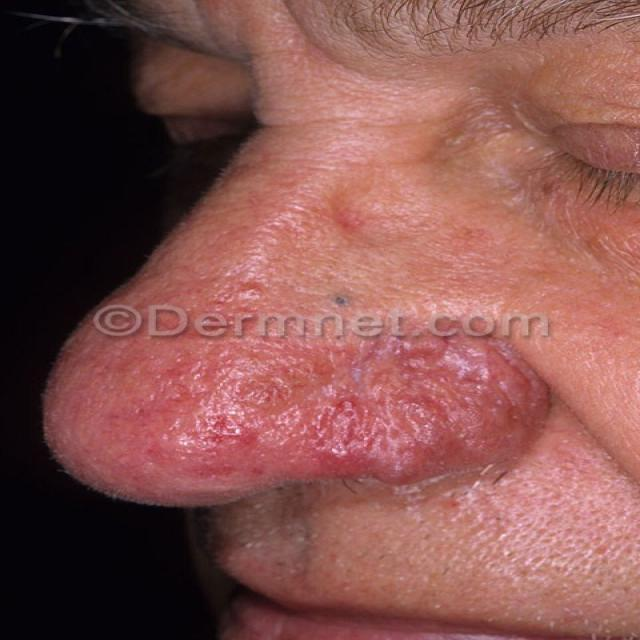images: (10, 0, 639, 639)
